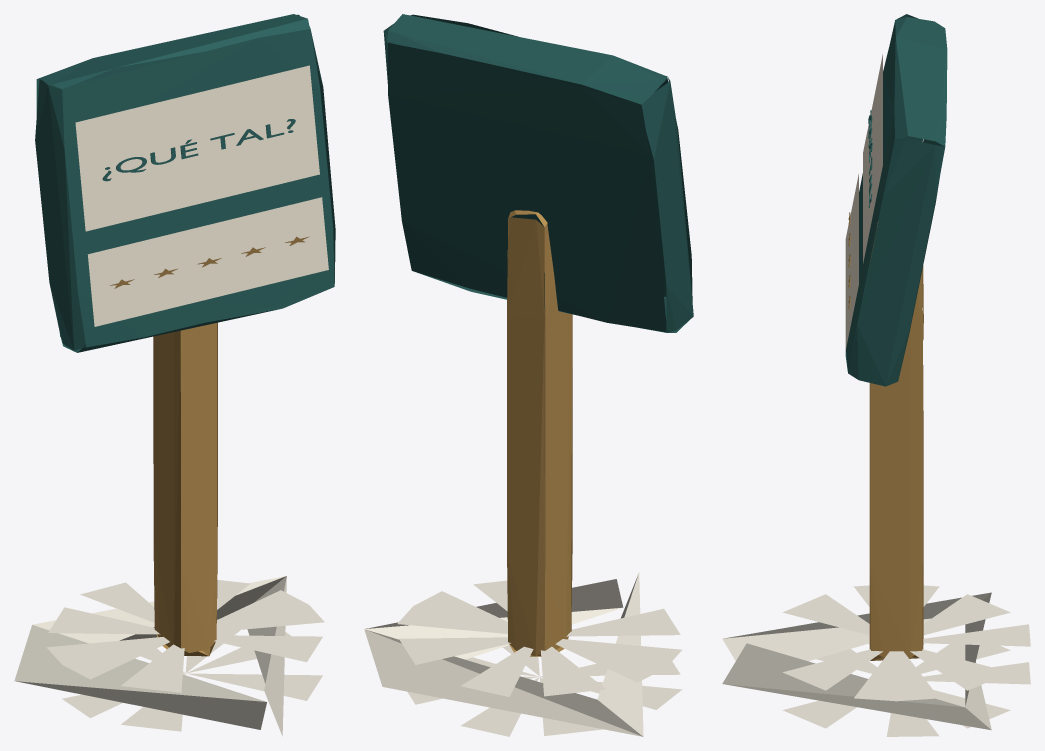
The model's file is good.glb.
The picture shows the model from 3 angles, left to right: view 1: azimuth 30°, elevation 25°; view 2: azimuth 150°, elevation 25°; view 3: azimuth 270°, elevation 25°; orthographic projection. The views are drawn at different scales.
Parts seen in each view (by area): view 1: Native component 2, Native component 0, Native component 3, Native component 1, Native component 4, Sign ¿QUÉ TAL?; view 2: Native component 2, Native component 0, Native component 1; view 3: Native component 0, Native component 2, Native component 1, Native component 3, Native component 4.
Boxes of the visible parts, box(x1,y1,x2,y2) form: Native component 2: box(35, 14, 335, 352); Native component 0: box(14, 576, 324, 736); Native component 3: box(75, 65, 319, 231); Native component 1: box(153, 322, 217, 656); Native component 4: box(87, 197, 328, 326); Sign ¿QUÉ TAL?: box(102, 119, 295, 181); Native component 2: box(383, 14, 693, 332); Native component 0: box(364, 572, 682, 736); Native component 1: box(507, 210, 572, 656); Native component 0: box(722, 585, 1030, 736); Native component 2: box(845, 14, 947, 386); Native component 1: box(869, 221, 923, 660); Native component 3: box(863, 54, 882, 263); Native component 4: box(845, 174, 858, 349).
Size of the model in its own units: 0.6629 by 1.45 by 0.6651.
